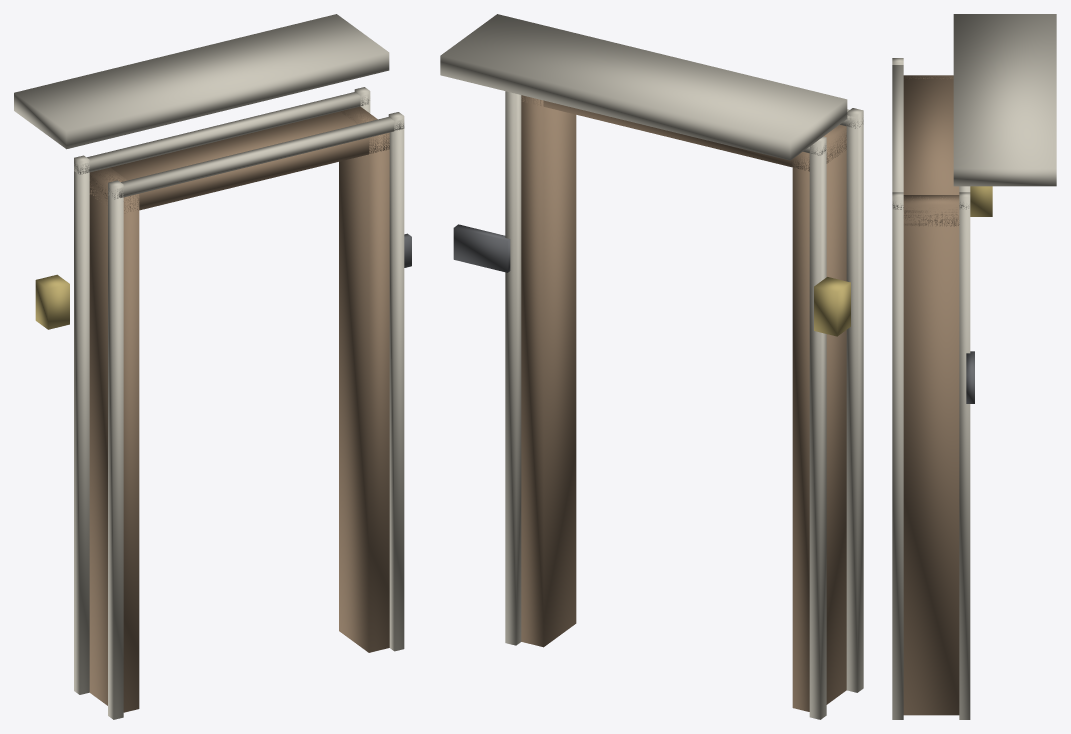
Rendered from doorway_motel_w106_h220_d24.glb.
3 renders of one model, left to right at view 1: azimuth 30°, elevation 25°; view 2: azimuth 150°, elevation 25°; view 3: azimuth 270°, elevation 25°, orthographic. The views are drawn at different scales.
Visible parts, largest first — view 1: world; view 2: world; view 3: world.
Part boxes in pixels (left/top/right/bottom): world: left=14, top=14, right=411, bottom=719; world: left=440, top=14, right=863, bottom=719; world: left=892, top=14, right=1056, bottom=719.
Size of the model in its own units: 1.68 by 2.52 by 0.6689.
